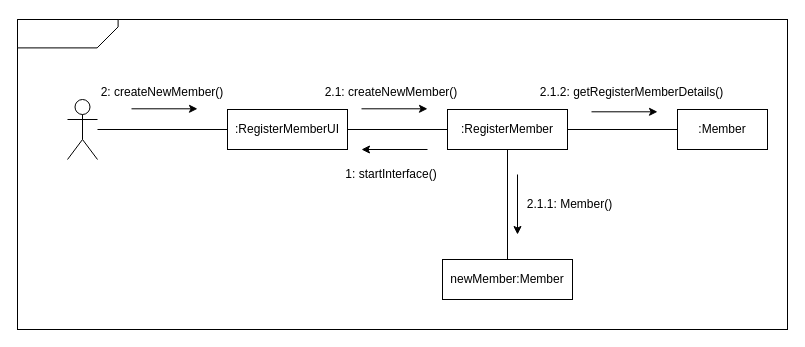
This 805x347 diagram has some shape labels left out. The centre of each missing label's shape, as x and y in pixels:
":Guest" belongs at point (82, 129).
"Register" belongs at point (67, 33).
